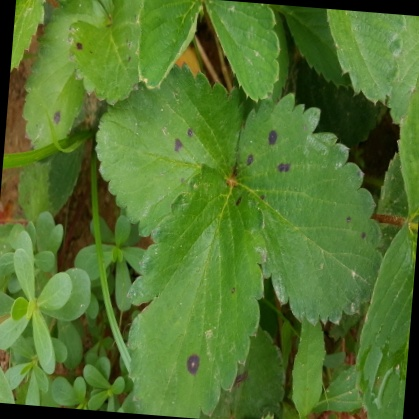Leaf_Spot: (231, 87, 388, 318), (133, 165, 271, 418), (89, 62, 245, 243), (56, 0, 187, 115), (13, 0, 99, 164)
